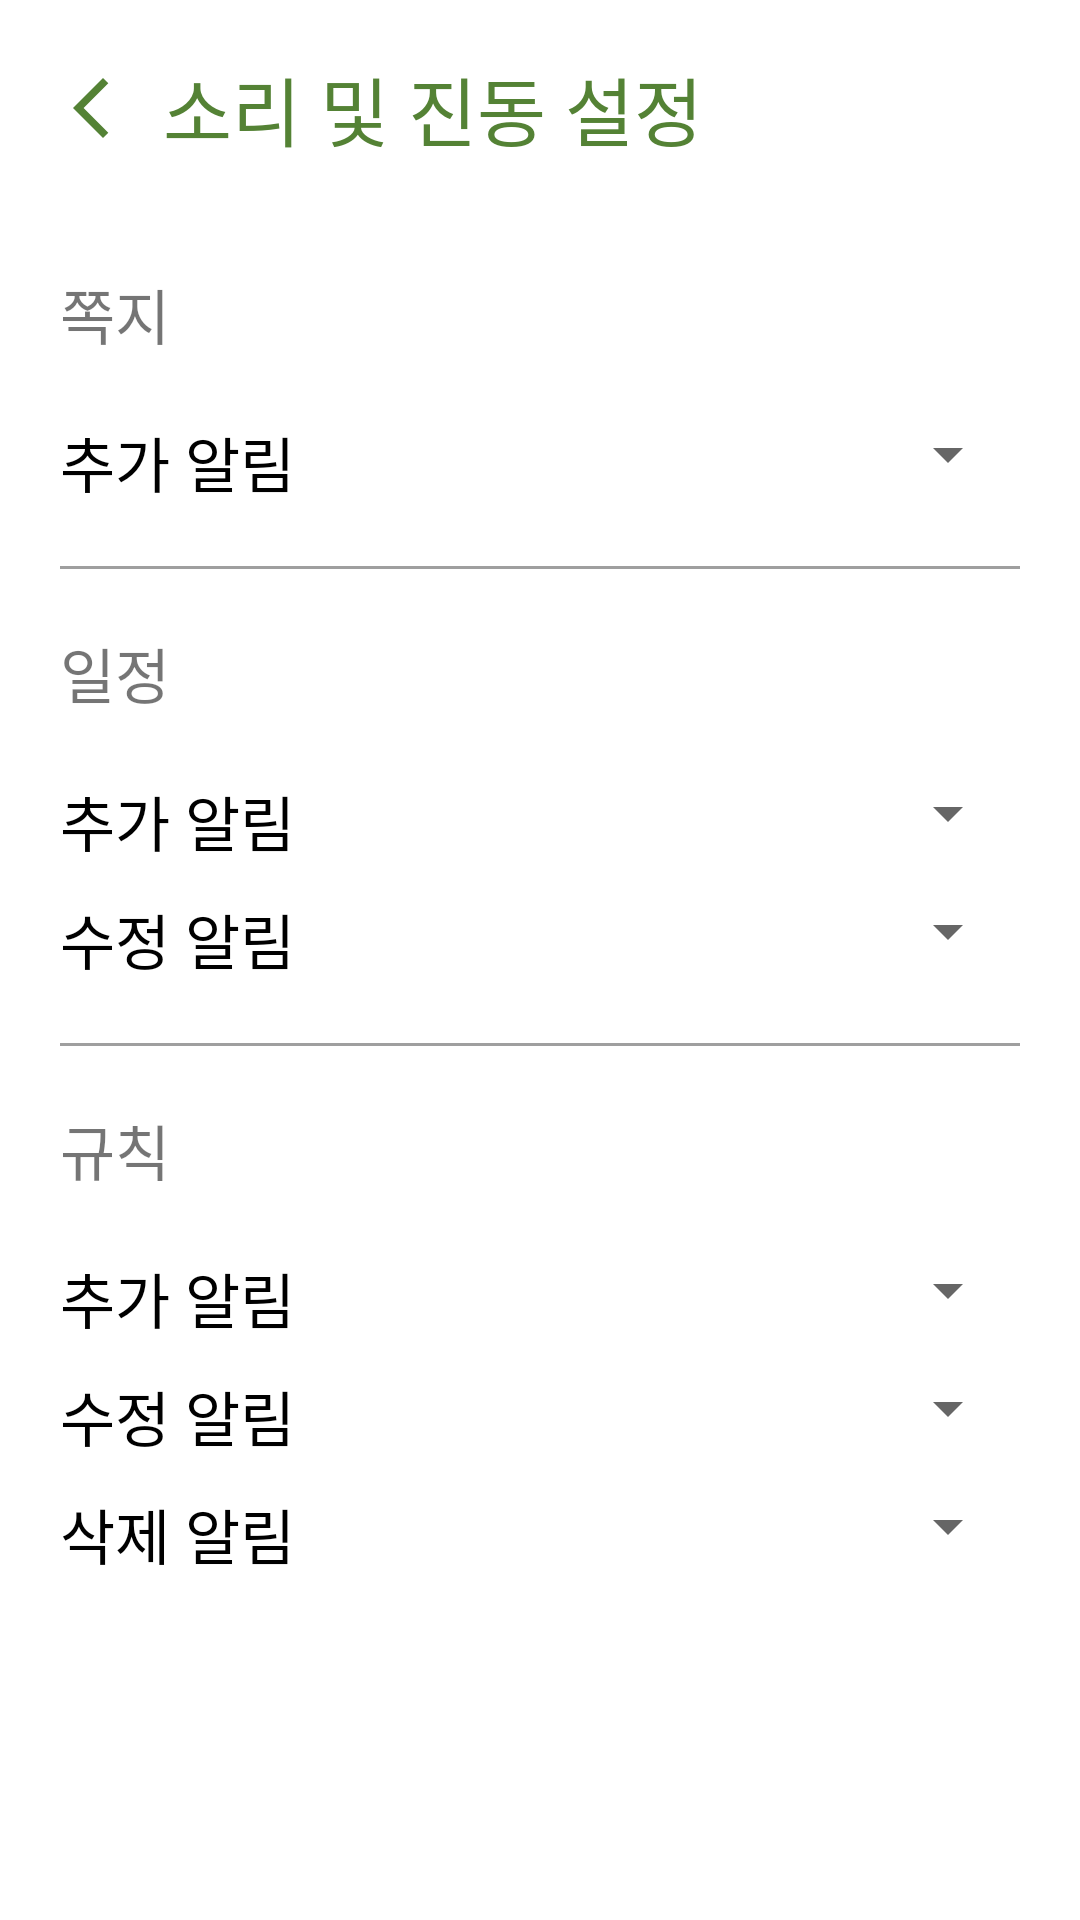

Point at icon controls on the screen. Image size 1080*1920, points as (x=x, y=y).
back: (x=90, y=108)
